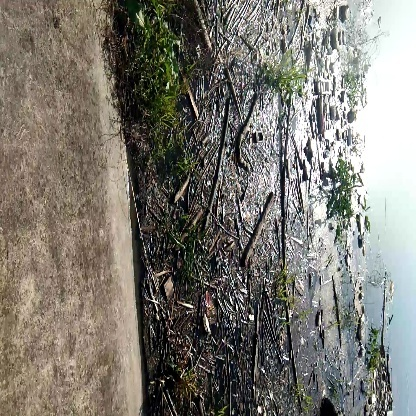branch: (241, 190, 275, 272)
